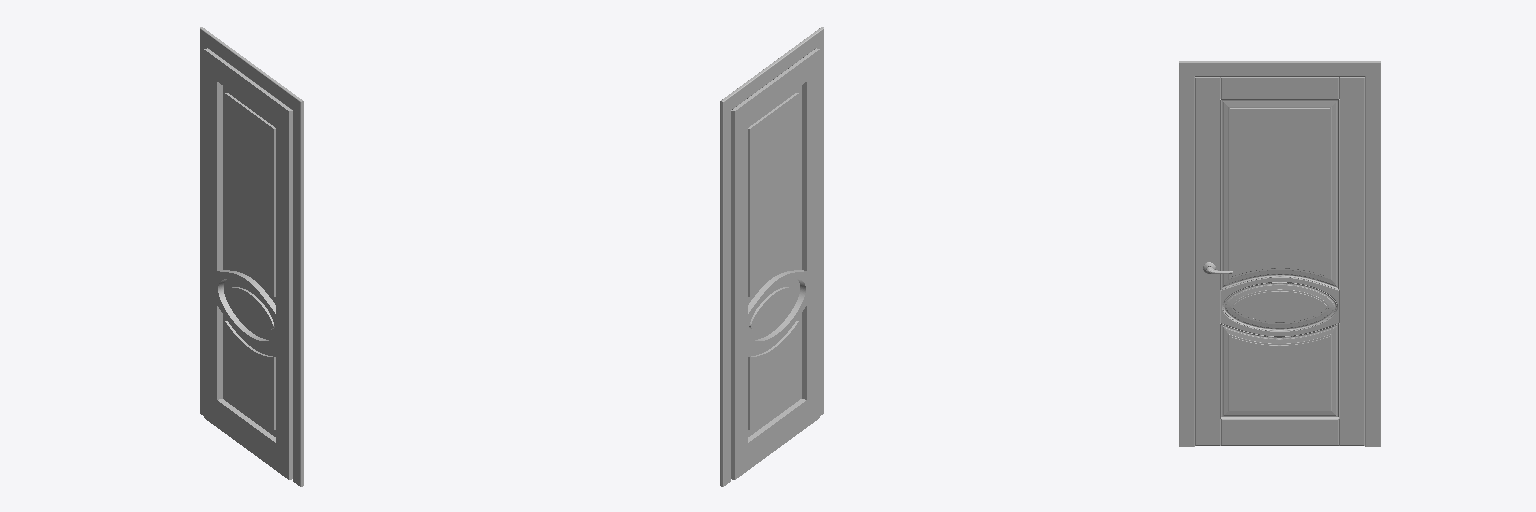
File: frise28_B_.obj
3 views of the same model, side by side, from view 1: azimuth 30°, elevation 25°; view 2: azimuth 150°, elevation 25°; view 3: azimuth 270°, elevation 25° (orthographic).
Visible parts, largest first — view 1: frise28_B_; view 2: frise28_B_; view 3: frise28_B_.
Part boxes in pixels (left/top/right/bottom): frise28_B_: left=200, top=27, right=303, bottom=486; frise28_B_: left=720, top=27, right=823, bottom=486; frise28_B_: left=1179, top=61, right=1380, bottom=446.
Bounding box in the file's own units: 112 × 2191 × 1043.